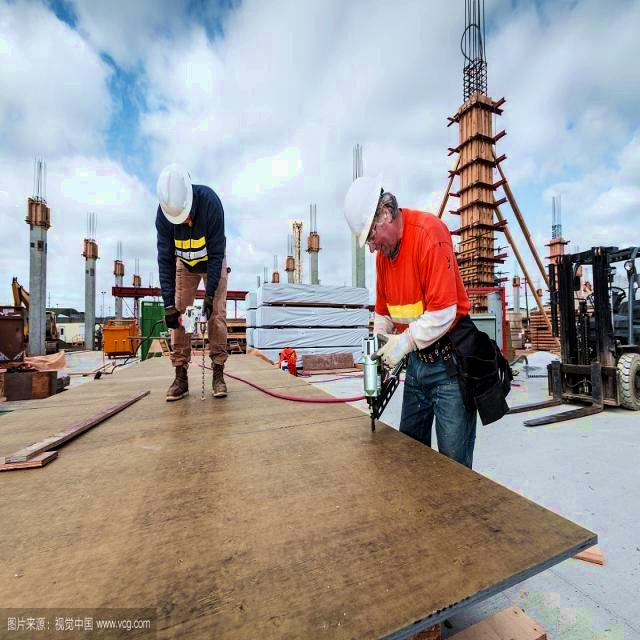Con_Casco: (344, 176, 399, 262), (157, 164, 194, 226)
